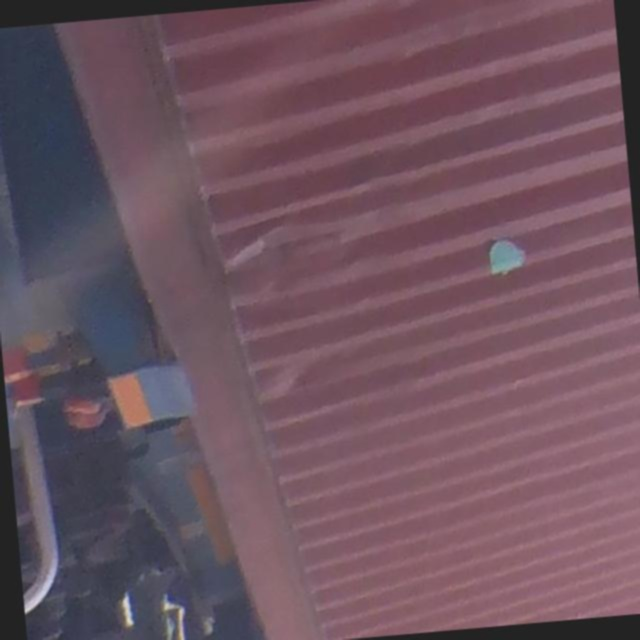Dent: (222, 205, 352, 299)
